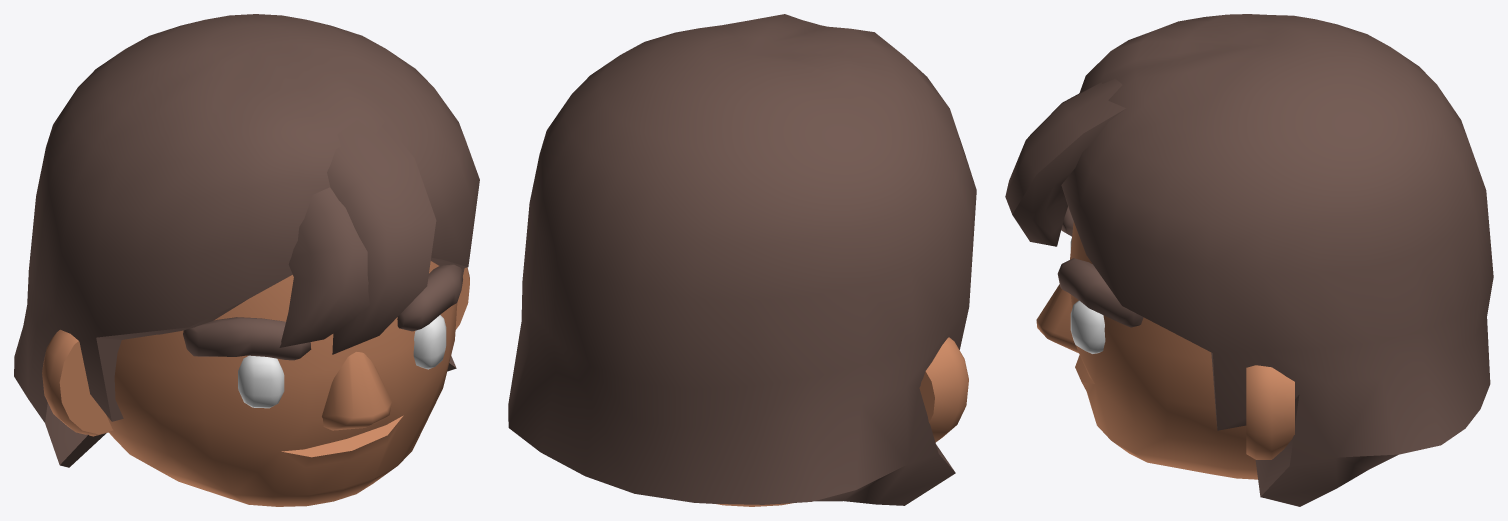
File: character_swordmaster_head_withoutHat.fbx
The picture shows the model from 3 angles, left to right: view 1: azimuth 30°, elevation 25°; view 2: azimuth 150°, elevation 25°; view 3: azimuth 270°, elevation 25°; orthographic projection. The views are drawn at different scales.
Parts seen in each view (by area): view 1: character_swordmaster_head_withoutHat; view 2: character_swordmaster_head_withoutHat; view 3: character_swordmaster_head_withoutHat.
Part boxes in pixels (<box>): character_swordmaster_head_withoutHat: <box>14,14,479,506</box>; character_swordmaster_head_withoutHat: <box>508,14,976,506</box>; character_swordmaster_head_withoutHat: <box>1005,14,1493,506</box>.
Bounding box in the file's own units: 1.18 × 1.1 × 1.22.
